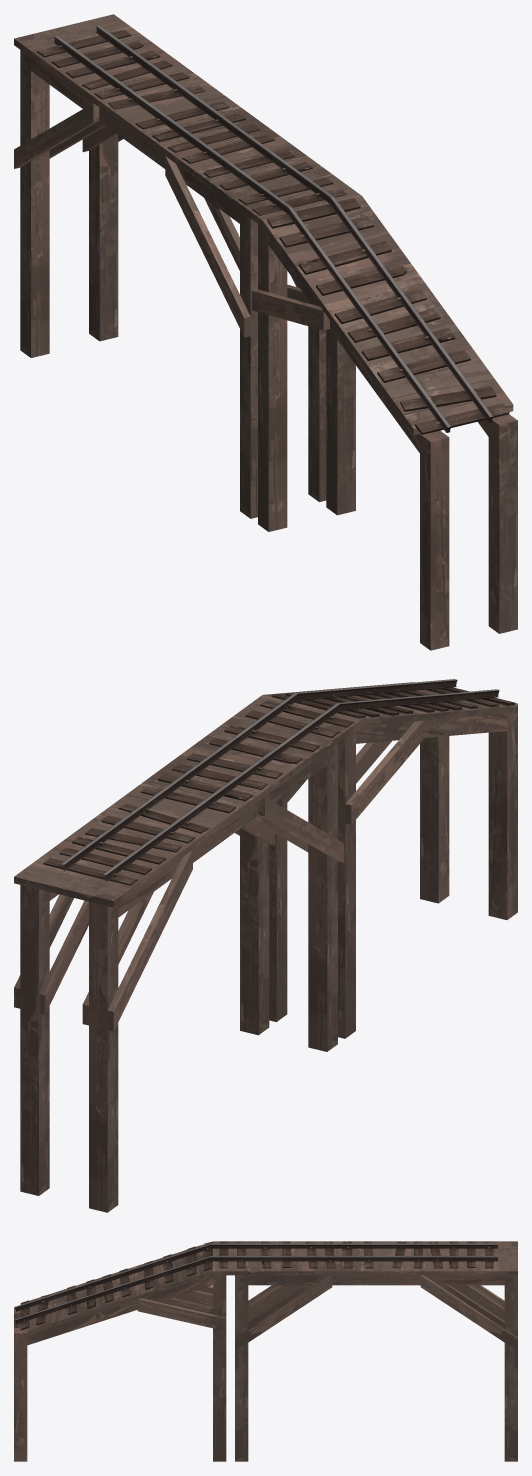
The picture shows the model from 3 angles, top to bottom: view 1: azimuth 30°, elevation 25°; view 2: azimuth 150°, elevation 25°; view 3: azimuth 270°, elevation 25°; orthographic projection. The views are drawn at different scales.
Parts seen in each view (by area): view 1: body0_model0_lod0_mesh1, body0_model0_lod0_mesh0; view 2: body0_model0_lod0_mesh1, body0_model0_lod0_mesh0; view 3: body0_model0_lod0_mesh1, body0_model0_lod0_mesh0.
Boxes of the visible parts, x1,y1,x2,y2 form: body0_model0_lod0_mesh1: (14, 14, 517, 650); body0_model0_lod0_mesh0: (37, 25, 509, 434); body0_model0_lod0_mesh1: (14, 682, 517, 1212); body0_model0_lod0_mesh0: (43, 679, 515, 885); body0_model0_lod0_mesh1: (14, 1241, 517, 1461); body0_model0_lod0_mesh0: (14, 1241, 497, 1330).
Size of the model in its own units: 64.02 by 197 by 456.
2 materials, 2 textured.
